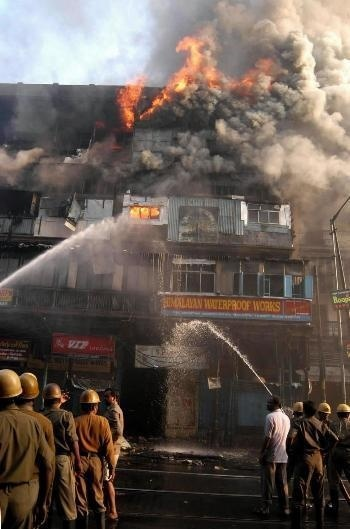fire: (119, 8, 319, 119), (127, 200, 159, 217)
